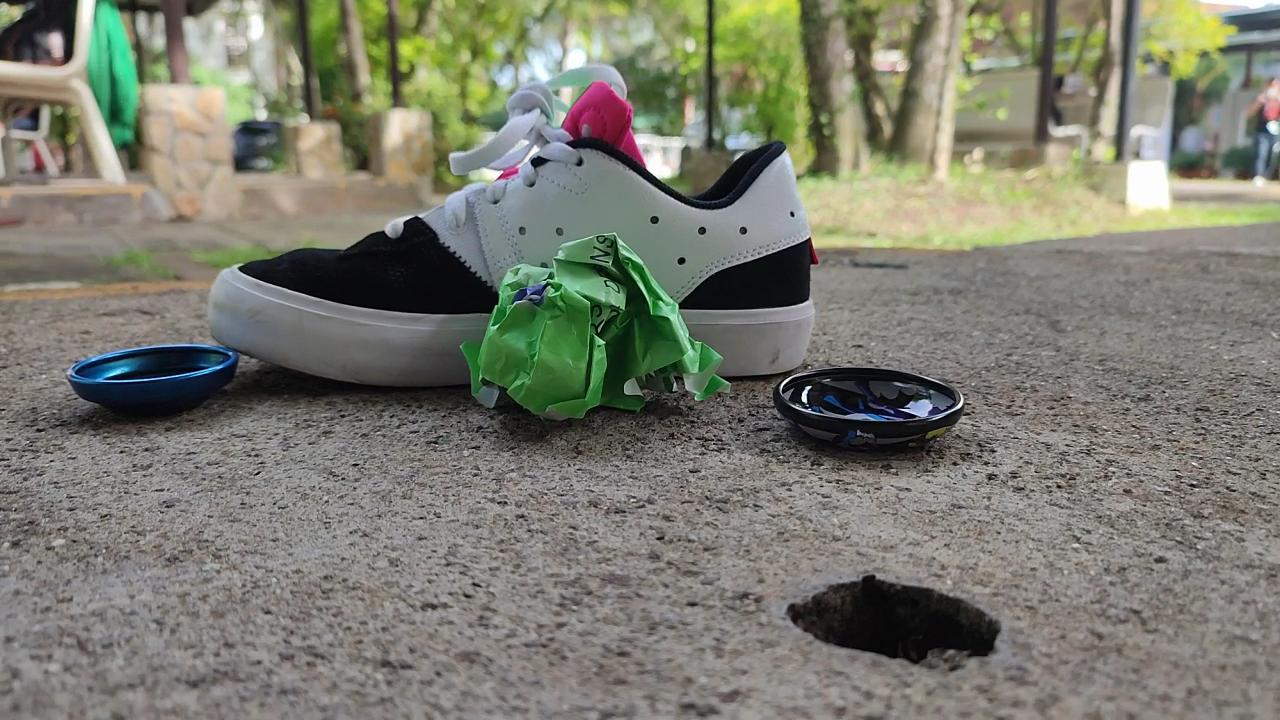Paper: (447, 217, 746, 443)
